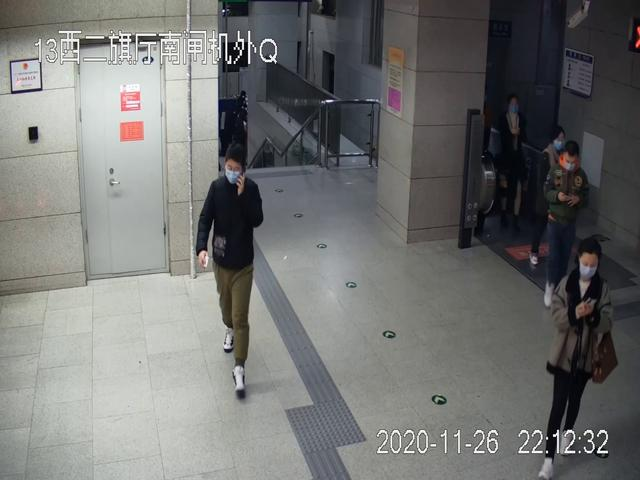person: (540, 239, 617, 480), (192, 150, 265, 397), (543, 142, 592, 308)
